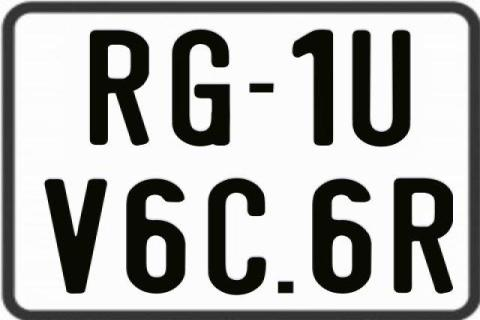0: (309, 178, 371, 294), (123, 177, 184, 292), (291, 27, 337, 148)
C: (206, 178, 267, 298)
G: (170, 29, 230, 149)
R: (88, 30, 152, 148), (391, 178, 450, 294)
U: (350, 29, 412, 145)
V: (45, 179, 113, 293)
